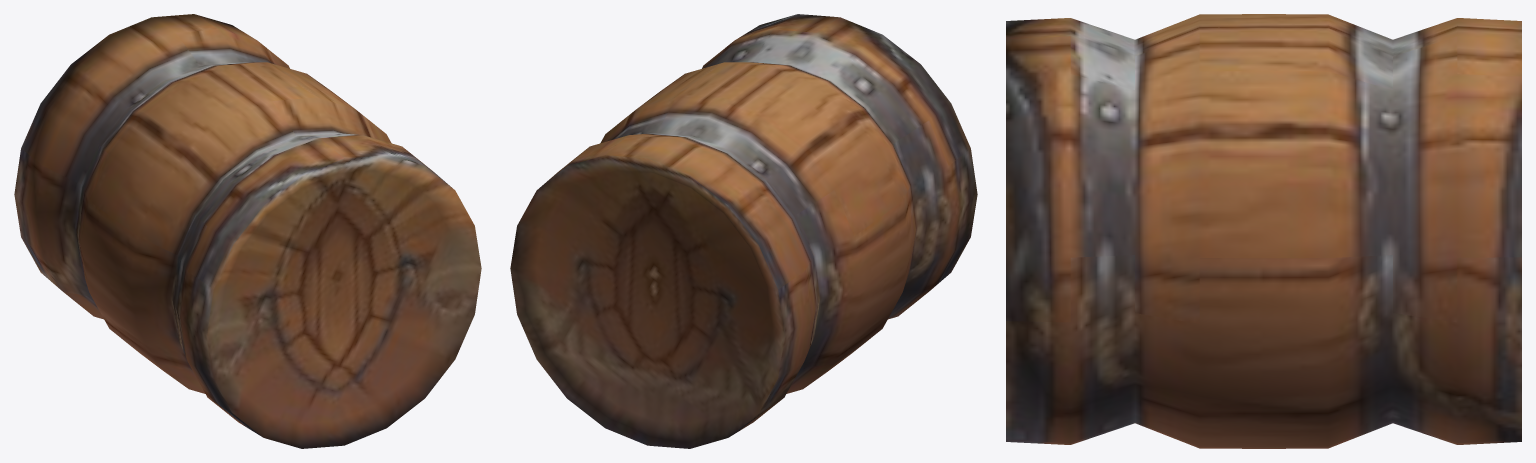
File: keg.glb
3 renders of one model, left to right at view 1: azimuth 30°, elevation 25°; view 2: azimuth 150°, elevation 25°; view 3: azimuth 270°, elevation 25°, orthographic. The views are drawn at different scales.
Parts seen in each view (by area): view 1: keg; view 2: keg; view 3: keg.
Boxes of the visible parts, left/top/right/bottom form: keg: left=14, top=14, right=481, bottom=448; keg: left=510, top=14, right=977, bottom=448; keg: left=1006, top=14, right=1521, bottom=448.
Bounding box in the file's own units: 0.5 × 0.5 × 0.5885.
1 material, 1 textured.
